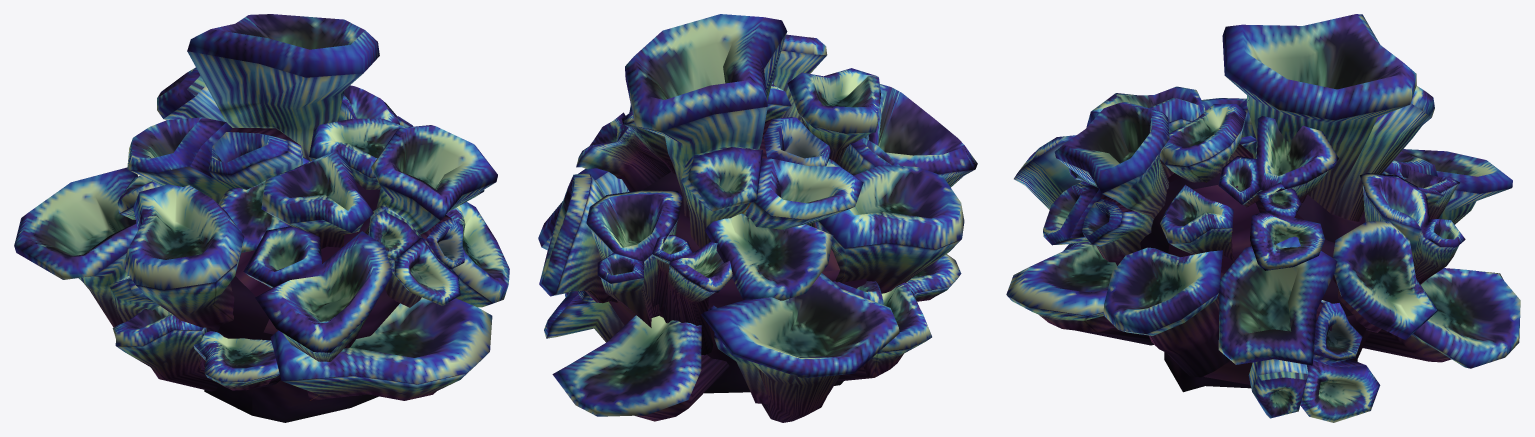
File: coral.fbx
The picture shows the model from 3 angles, left to right: view 1: azimuth 30°, elevation 25°; view 2: azimuth 150°, elevation 25°; view 3: azimuth 270°, elevation 25°; orthographic projection.
Parts seen in each view (by area): view 1: Cube.056; view 2: Cube.056; view 3: Cube.056.
Boxes of the visible parts, <box> form: Cube.056: <box>14,14,509,422</box>; Cube.056: <box>538,14,977,422</box>; Cube.056: <box>1006,14,1520,422</box>.
Bounding box in the file's own units: 86.96 × 72.81 × 100.
Materials: 1 (1 with a texture image).
